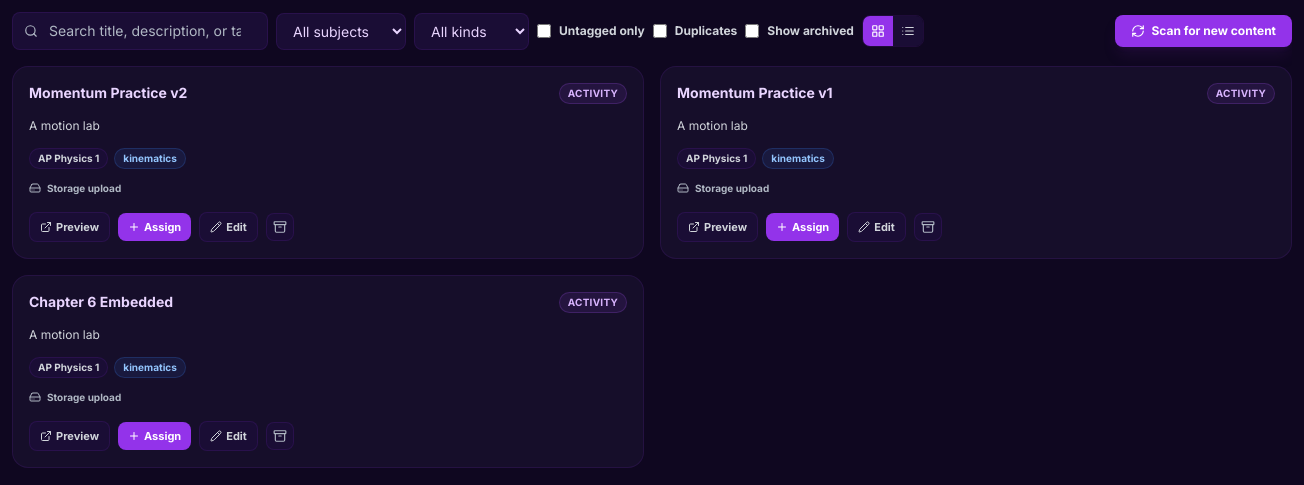
it: LibraryTab › groups storage re-uploads by prefix-stripped base filename and badges latest vs older
Click the checkbox labelled "Duplicates" at (660, 31), box [653,24,667,38]
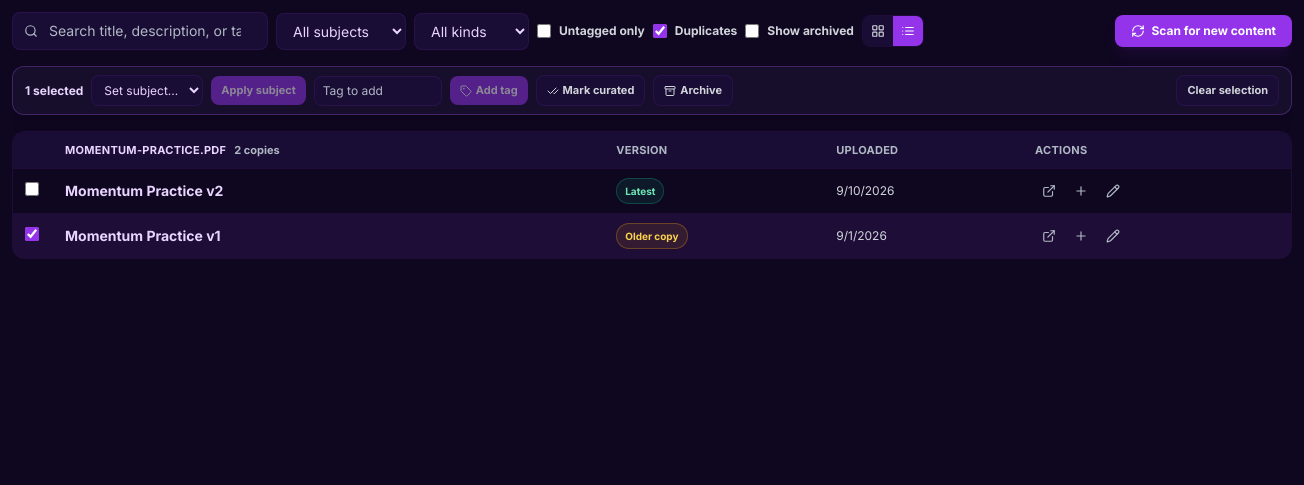
Result: the element named "momentum-practice.pdf duplicate group, 2 copies" is shown at [12,131,1292,259]
Result: the text "Latest" is shown at [616,178,664,204]
Result: the text "Older copy" is shown at [616,223,688,249]
